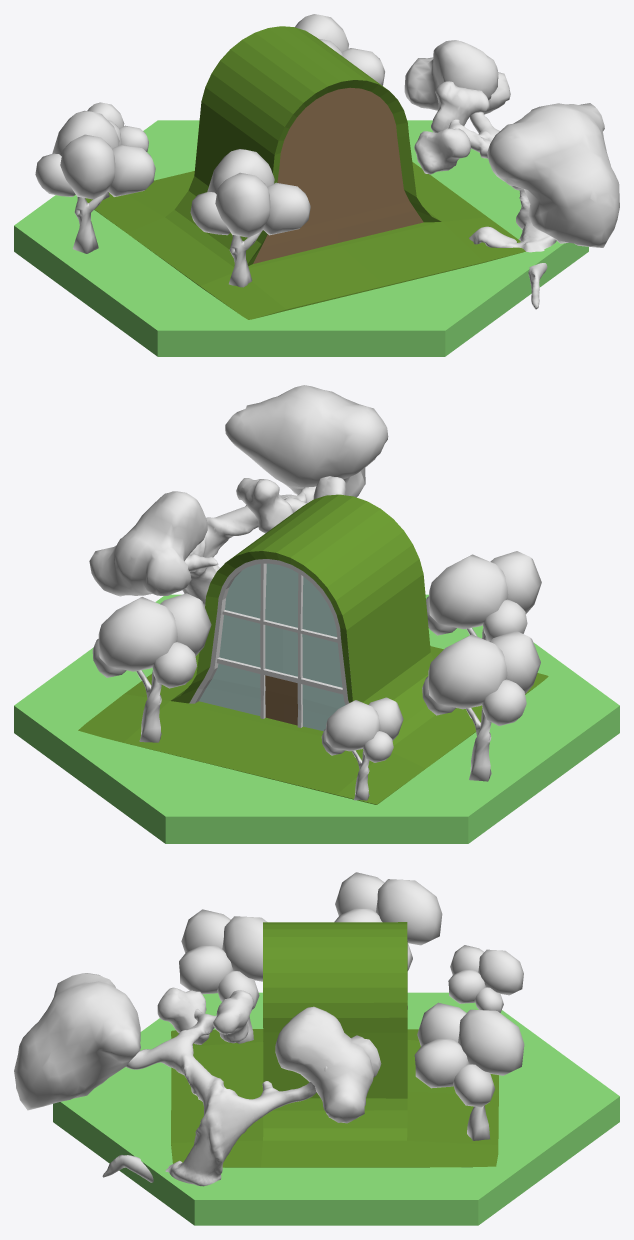
Rendered from BioPark.fbx.
The picture shows the model from 3 angles, top to bottom: view 1: azimuth 30°, elevation 25°; view 2: azimuth 150°, elevation 25°; view 3: azimuth 270°, elevation 25°; orthographic projection. The views are drawn at different scales.
Parts seen in each view (by area): view 1: Teletubbie, Hexagon, Crown left, Icosphere.008, Icosphere.001, Base, Icosphere.003, Icosphere.002, Icosphere.005, Icosphere.006; view 2: Teletubbie, Hexagon, Crown left, Icosphere.001, Icosphere.003, Icosphere.008, Icosphere.005, Base, Icosphere.002, Icosphere.004; view 3: Hexagon, Teletubbie, Crown left, Base, Icosphere.003, Icosphere.008, Icosphere.001, Icosphere.005, Icosphere.004.
Part boxes in pixels (x1,y1,x2,y2): Teletubbie: (85,26,525,319); Hexagon: (14,120,588,356); Crown left: (404,40,619,247); Icosphere.008: (190,149,310,237); Icosphere.001: (35,110,155,199); Base: (448,112,556,309); Icosphere.003: (295,14,384,85); Icosphere.002: (73,191,107,253); Icosphere.005: (87,102,148,151); Icosphere.006: (229,229,262,287); Teletubbie: (78,494,548,804); Hexagon: (14,594,619,843); Crown left: (89,385,388,596); Icosphere.001: (422,631,540,725); Icosphere.003: (92,593,211,688); Icosphere.008: (426,551,541,640); Icosphere.005: (321,697,403,762); Base: (182,486,316,606); Icosphere.002: (466,708,491,781); Icosphere.004: (136,670,161,742); Hexagon: (53,992,619,1225); Teletubbie: (171,922,498,1167); Crown left: (14,973,381,1123); Base: (102,1009,327,1186); Icosphere.003: (414,1002,524,1107); Icosphere.008: (179,909,267,1009); Icosphere.001: (334,872,442,970); Icosphere.005: (448,945,523,1012); Icosphere.004: (467,1105,489,1140).
Bounding box in the file's own units: 21372 × 17821 × 7754.
